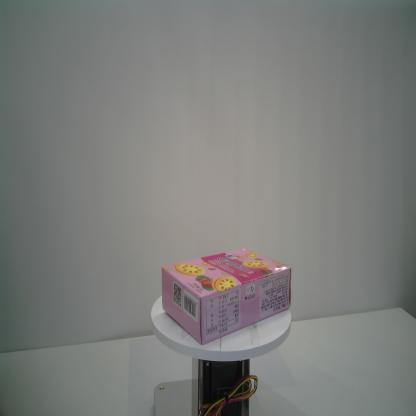Dessert: (161, 248, 292, 344)
